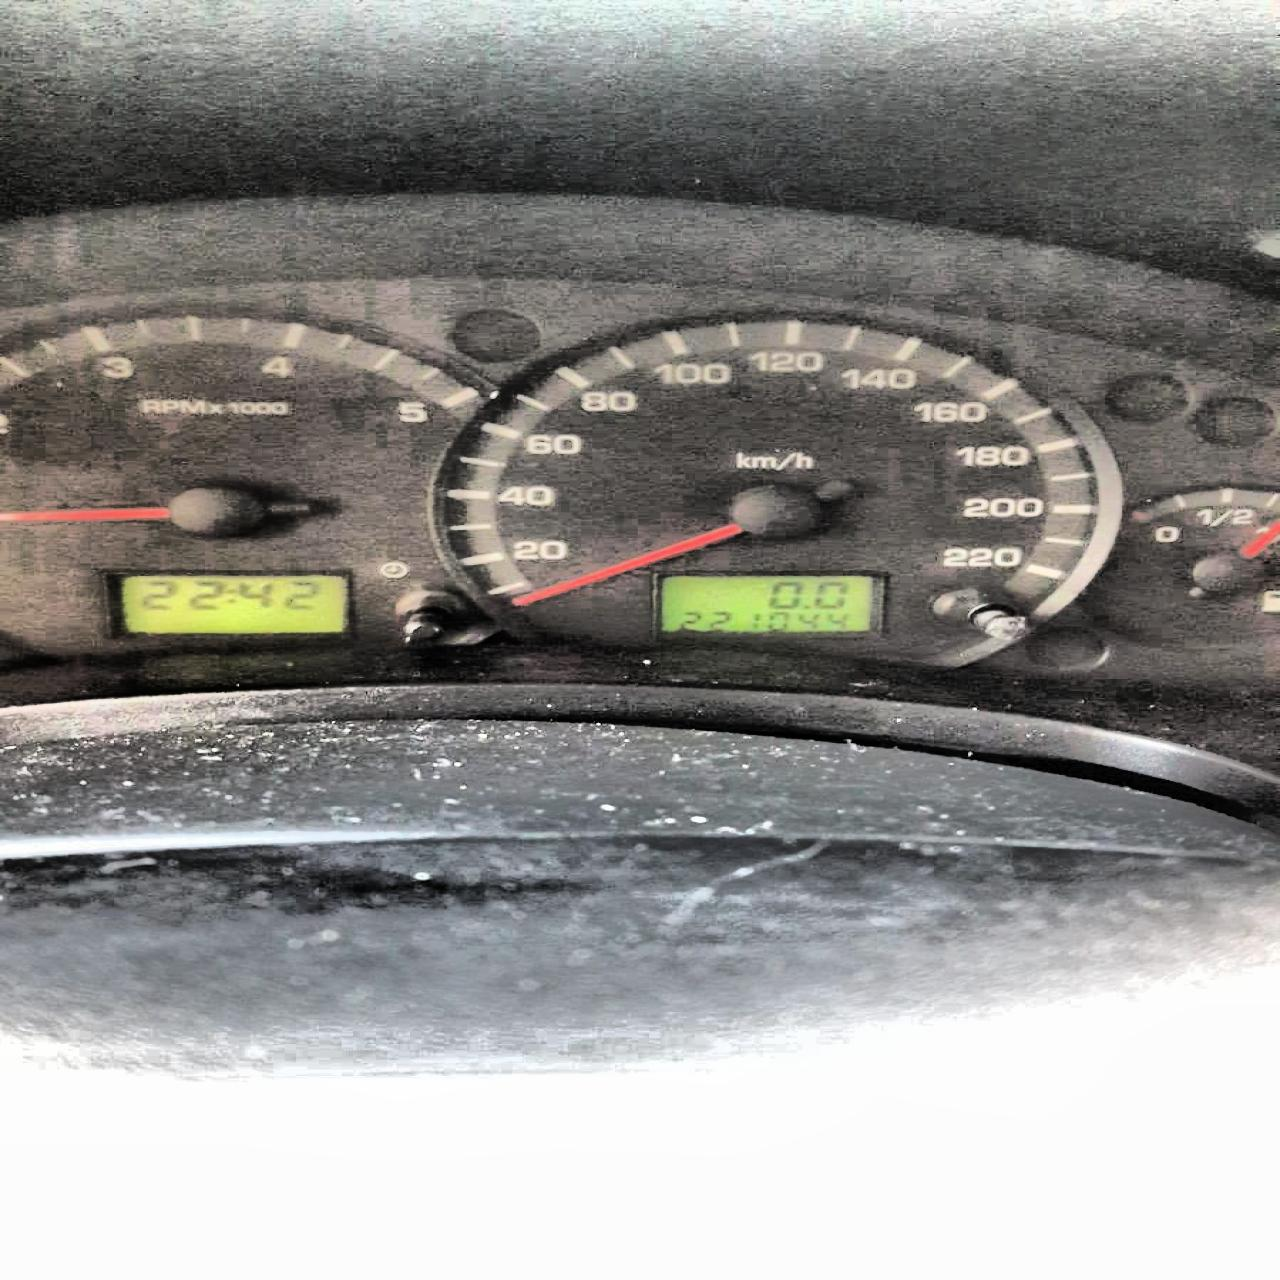-: (802, 602, 810, 610)
0: (812, 581, 847, 608), (768, 581, 801, 608), (765, 610, 788, 631)
1: (748, 612, 762, 631)
2: (678, 611, 701, 632), (707, 611, 730, 632)
4: (796, 612, 819, 629), (824, 612, 849, 628)
odometer: (649, 571, 887, 635)
